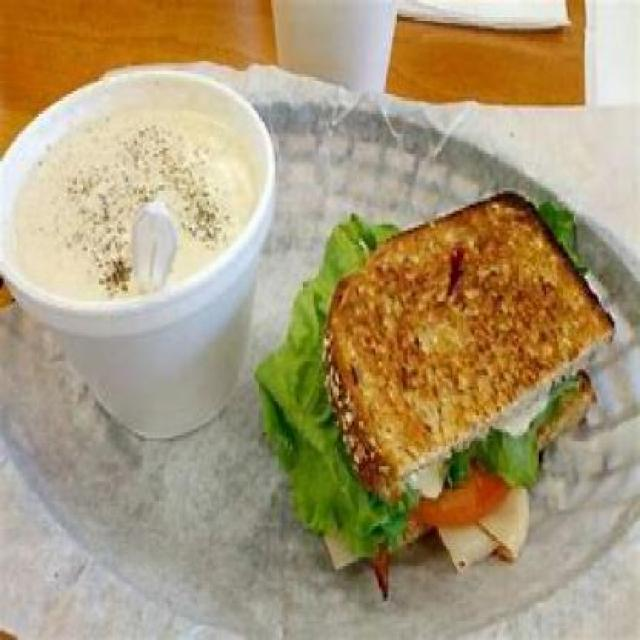clam chowder: (2, 60, 276, 382)
club sandwich: (254, 191, 617, 606)
